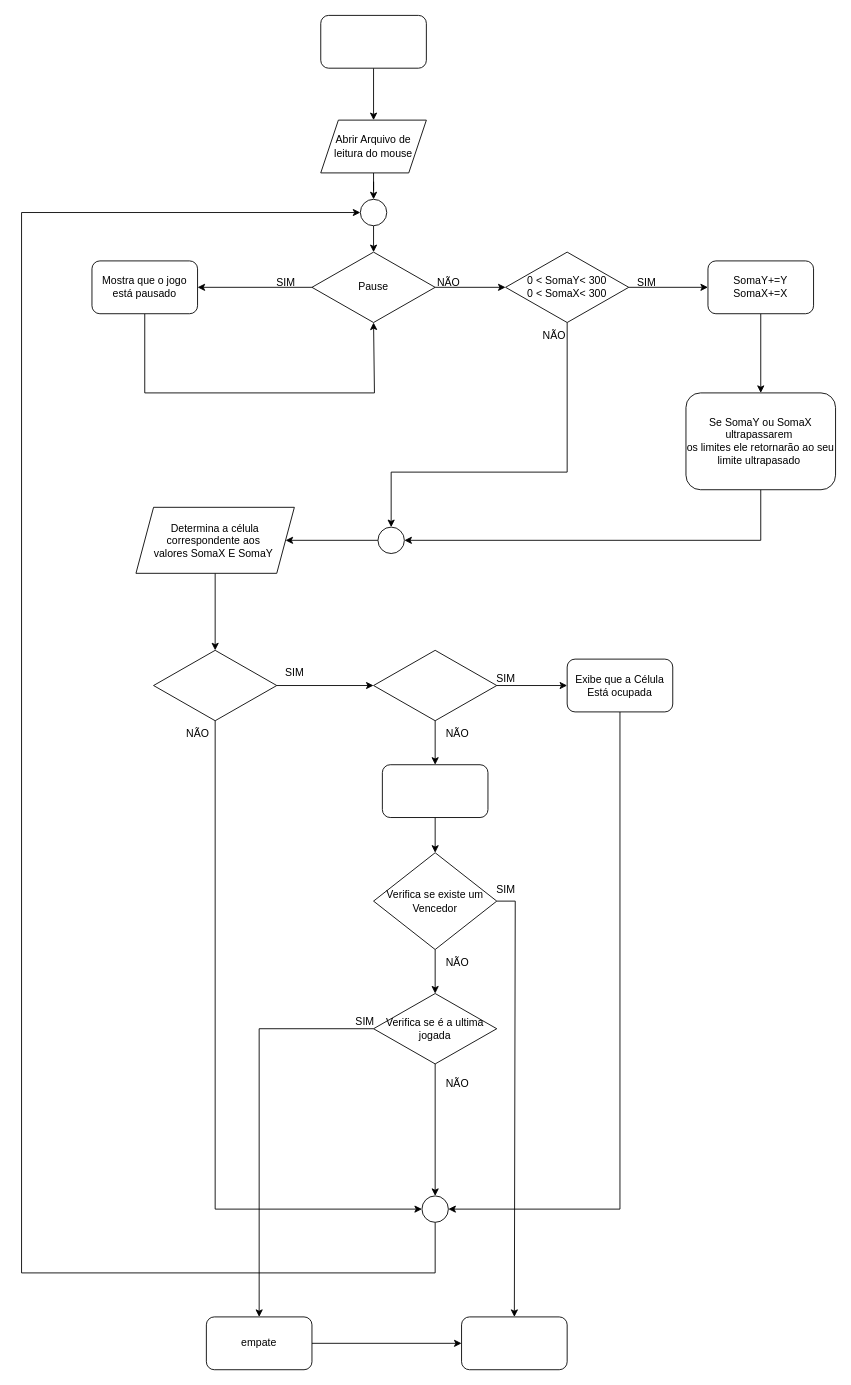
This 851x1385 diagram has some shape labels left out. The centre of each missing label's shape, as x and y in pixels:
"Click Esquerdo" belongs at (x=215, y=685).
"Coloca a Peça no Lugar" belongs at (x=434, y=791).
"Célula_Ocupada" belongs at (x=435, y=685).
"FIM" belongs at (x=514, y=1343).
"INÍCIO" belongs at (x=373, y=41).
